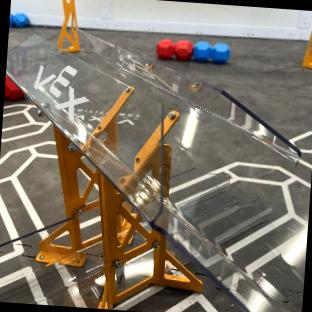V5_BLUE: (192, 41, 229, 62), (9, 12, 28, 26)
